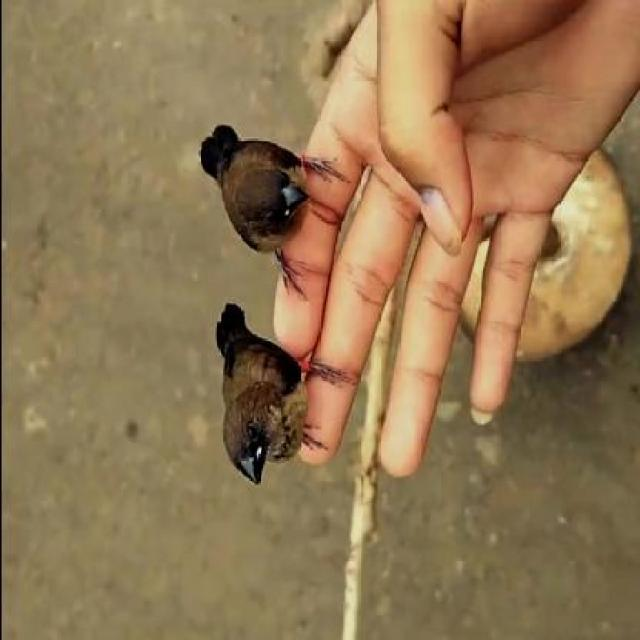Bird: (186, 123, 315, 272), (204, 293, 302, 481)
